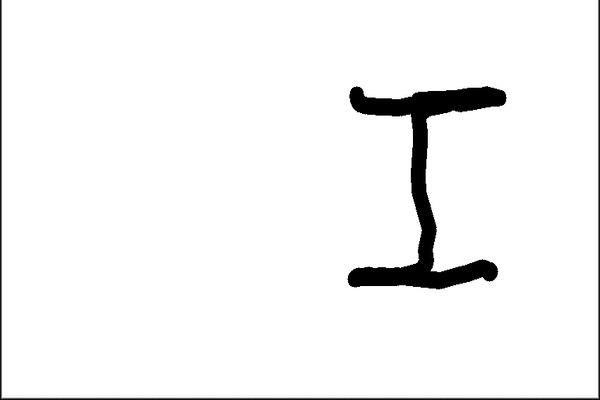i: (337, 73, 507, 294)
